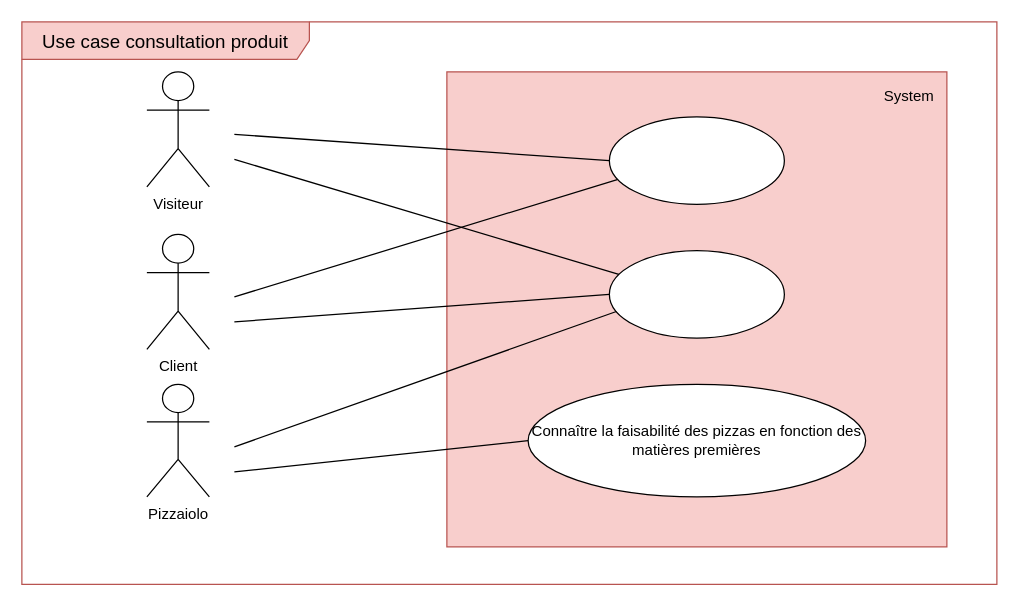
This 1019x606 diagram has some shape labels left out. The centre of each missing label's shape, as x and y in pixels:
Consulter les pizzas: [696,160]
Consulter les recettes: [696,293]
